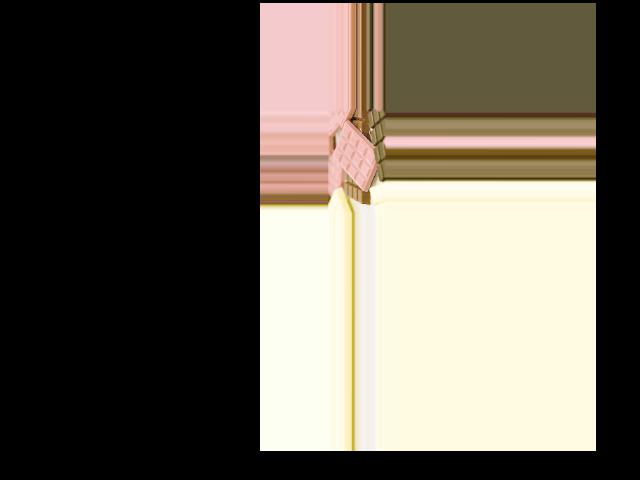chocolate: (331, 120, 386, 190)
